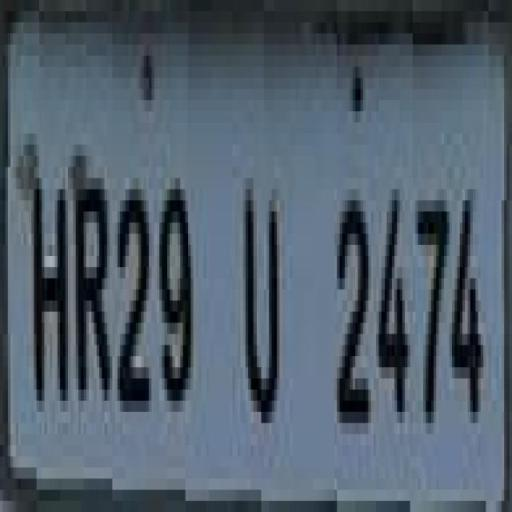number plate: (5, 22, 478, 512)
